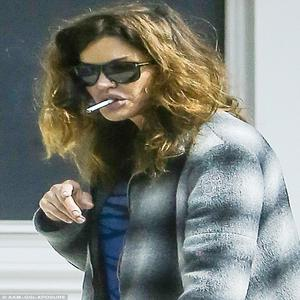cigarette: (83, 95, 117, 113)
